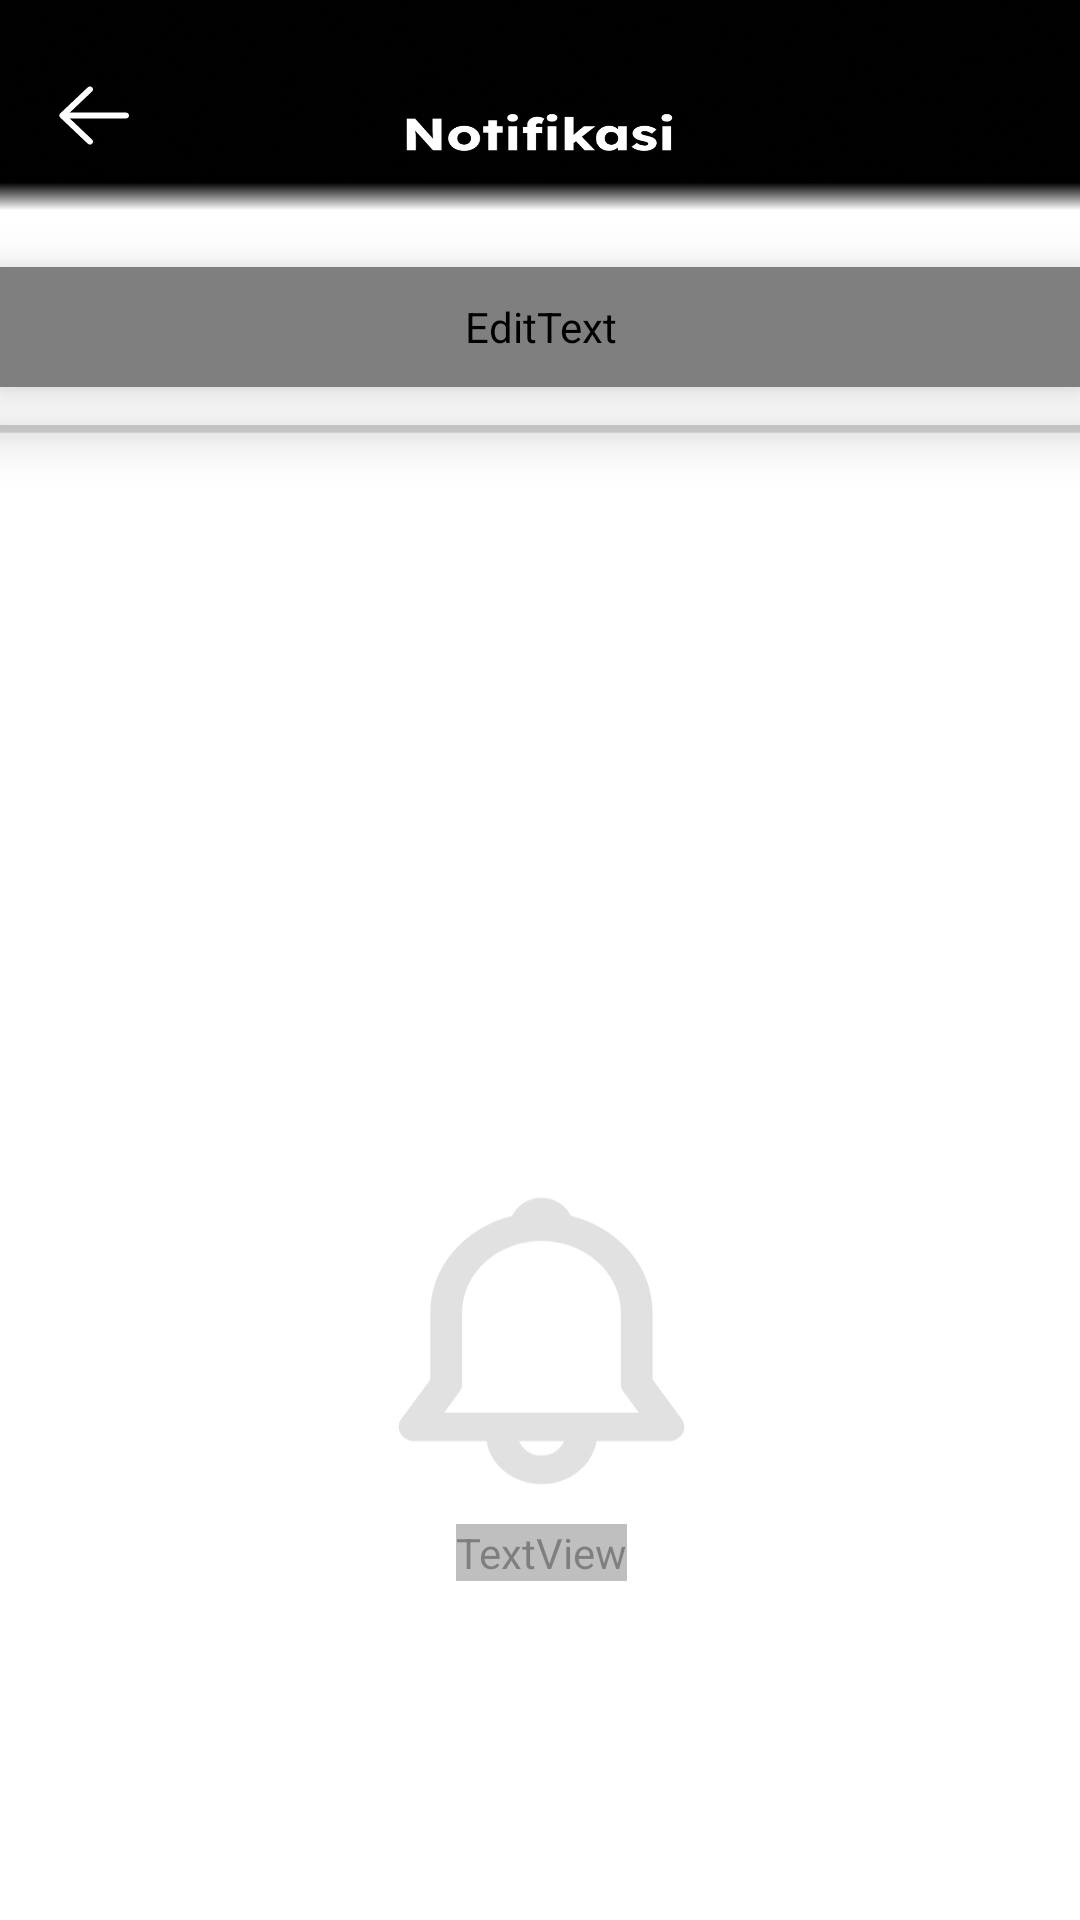

Where icons sit on this 1080x1920 app screen, as (x1=x1, y1=y1, x2=x2, y2=y2):
back: (x1=59, y1=86, x2=129, y2=145)
notifikasi: (x1=399, y1=1198, x2=684, y2=1484)
